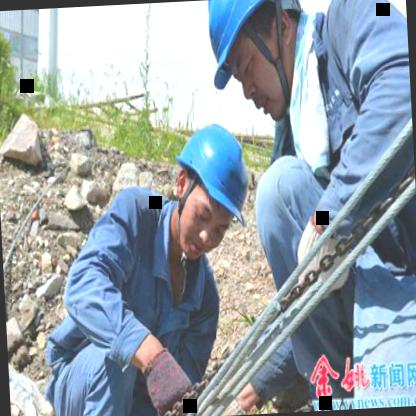helmet: (198, 0, 317, 133), (165, 102, 258, 260)
